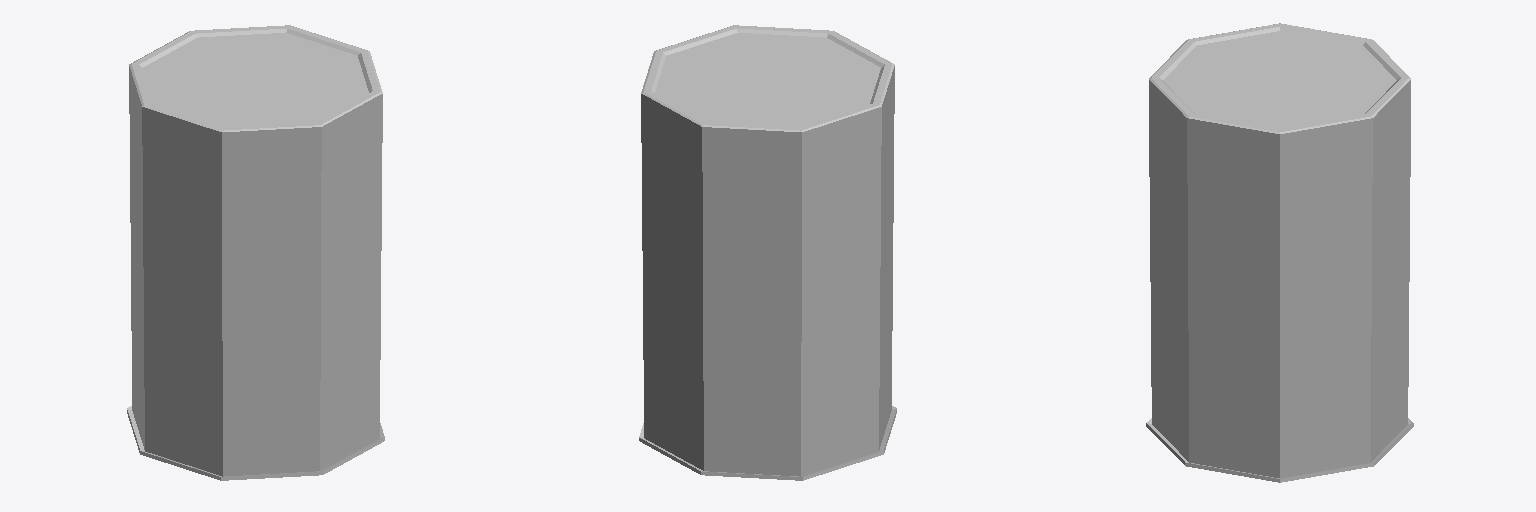
The model's file is metallic_barrel_with_lod2.obj.
3 views of the same model, side by side, from view 1: azimuth 30°, elevation 25°; view 2: azimuth 150°, elevation 25°; view 3: azimuth 270°, elevation 25° (orthographic).
Visible parts, largest first — view 1: MetallicBarel.LOD02__0; view 2: MetallicBarel.LOD02__0; view 3: MetallicBarel.LOD02__0.
Part boxes in pixels (x1,y1,x2,y2): MetallicBarel.LOD02__0: (127,25,384,480); MetallicBarel.LOD02__0: (639,25,896,480); MetallicBarel.LOD02__0: (1146,23,1413,482).
Size of the model in its own units: 0.7346 by 1.08 by 0.7346.